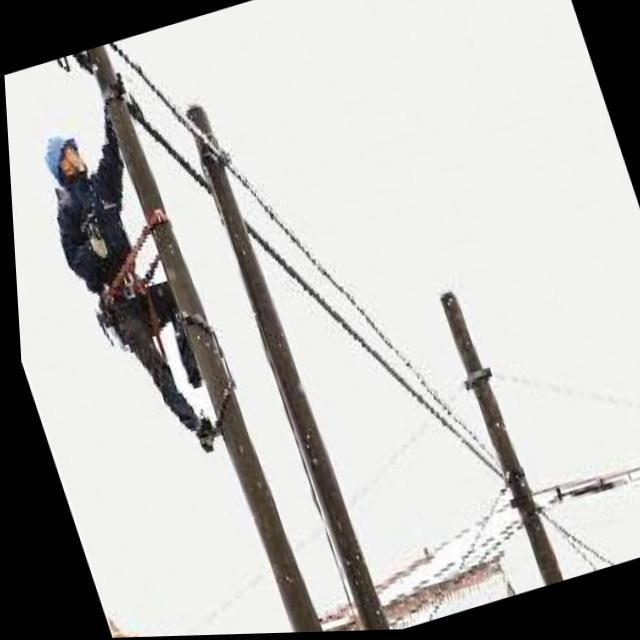belt: (76, 244, 192, 363)
